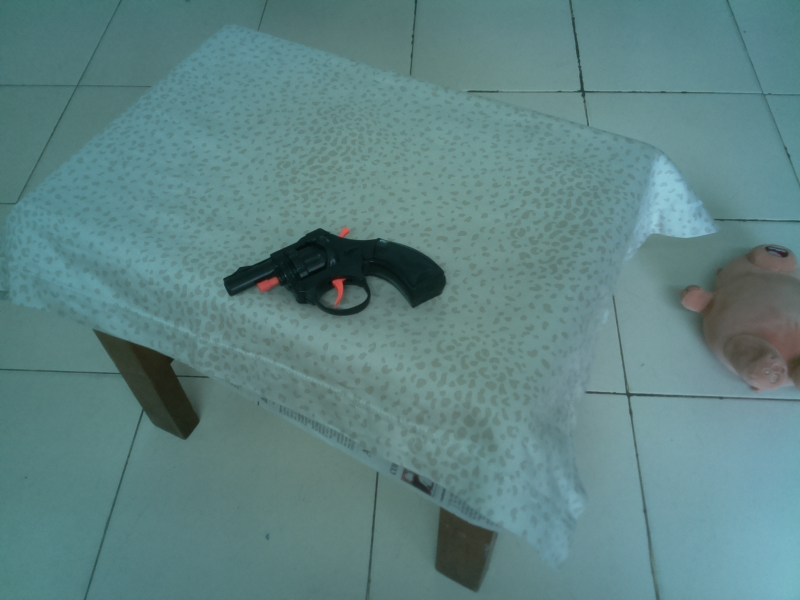Gun: (220, 225, 454, 320)
